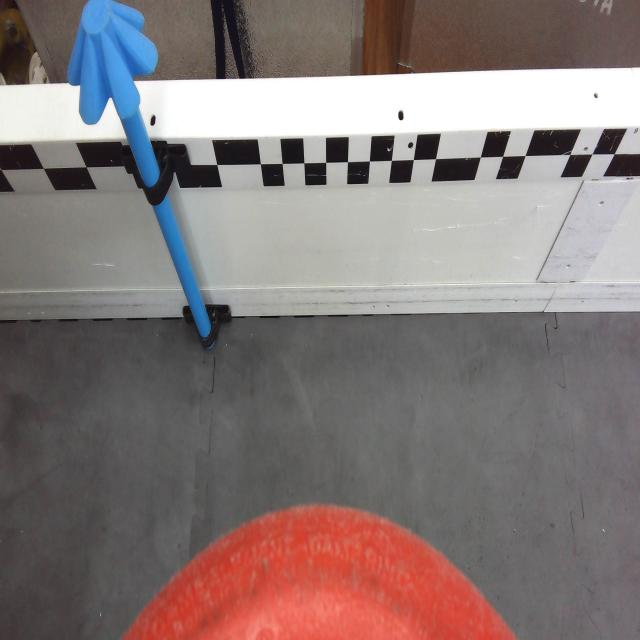zblue-Stake-Head: (68, 0, 159, 125)
